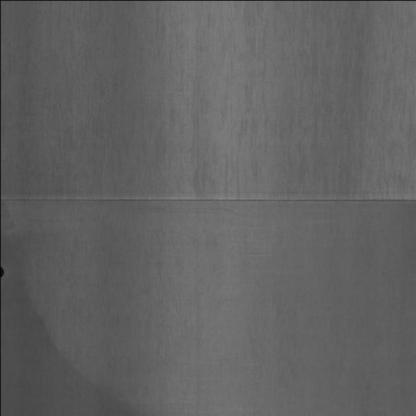punching_hole: (0, 262, 5, 278)
welding_line: (0, 186, 416, 216)
